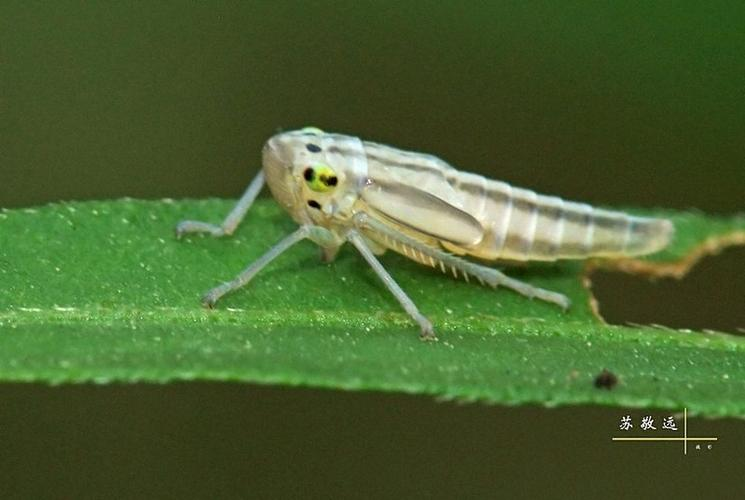Cicadellidae: (175, 123, 671, 340)
